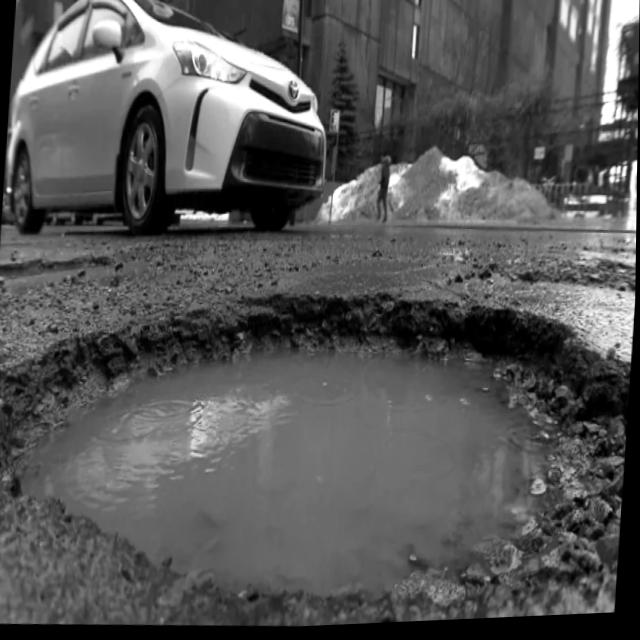pathole: (0, 225, 637, 627), (25, 352, 549, 597)
